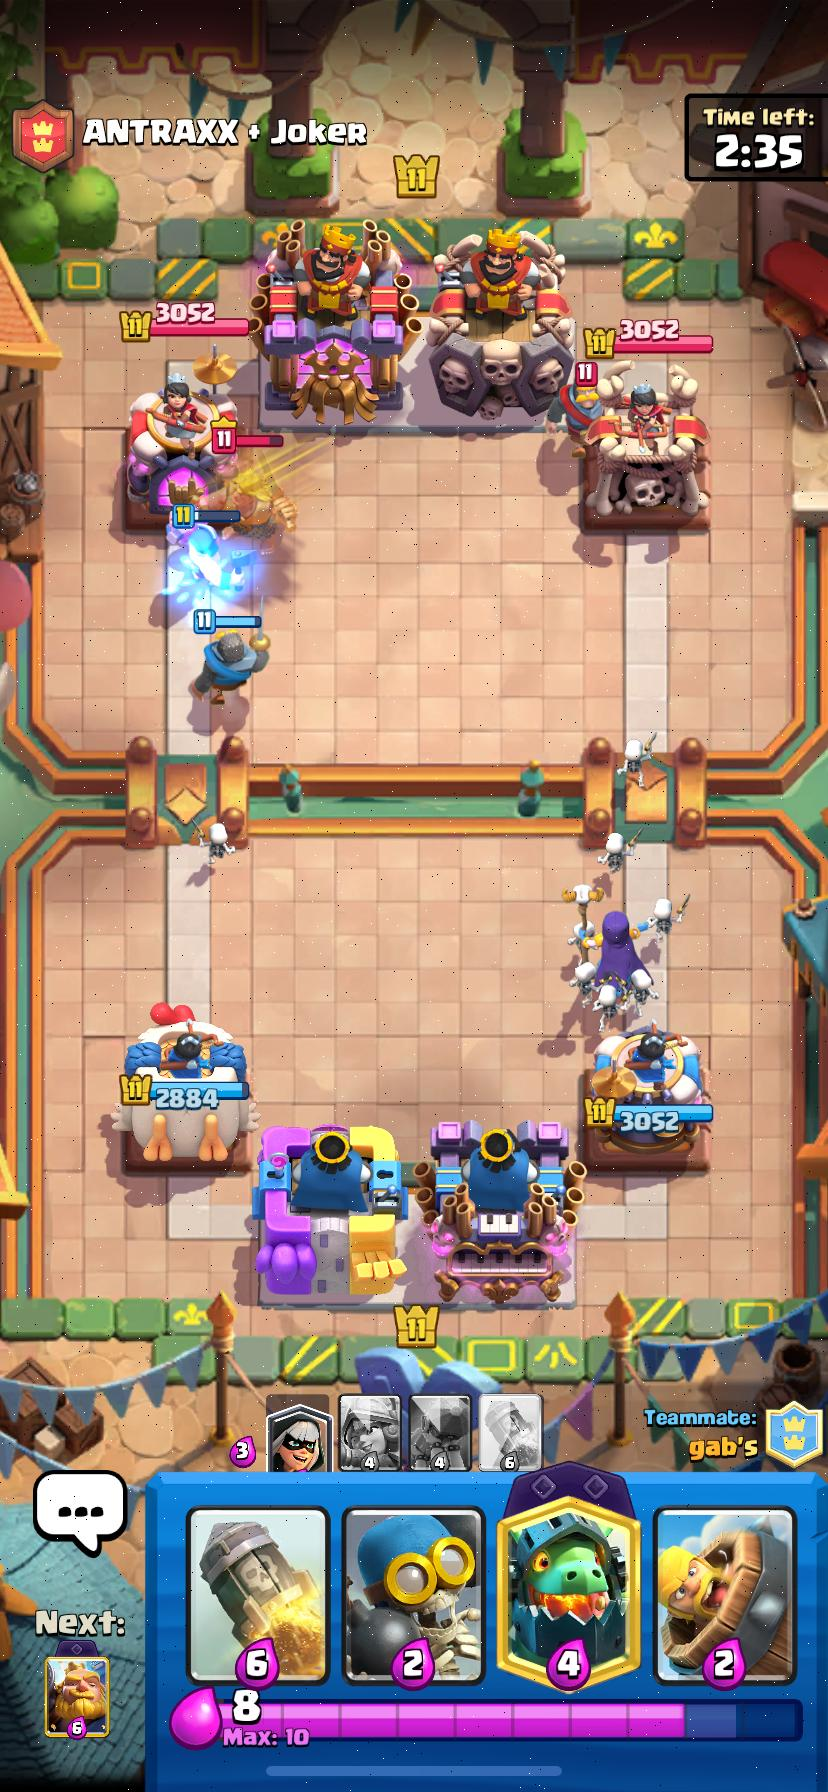EKingTower: (427, 229, 573, 419)
EKnight: (547, 383, 602, 441)
ERoyalKnight: (226, 469, 297, 543)
EnemyPrincessTower: (250, 223, 416, 423), (586, 367, 709, 522), (127, 371, 237, 518)
OKnight: (191, 627, 269, 705)
OLarry: (615, 734, 664, 792), (188, 821, 234, 872), (638, 895, 688, 941), (598, 831, 638, 875), (624, 967, 656, 1016), (595, 981, 619, 1031), (570, 961, 597, 1003)
OLumberjack: (165, 523, 256, 601)
OWitch: (596, 911, 640, 983)
OwnKingTower: (416, 1123, 580, 1306), (255, 1125, 406, 1306)
OwnPrincessTower: (119, 1003, 249, 1165), (584, 1026, 712, 1165)
